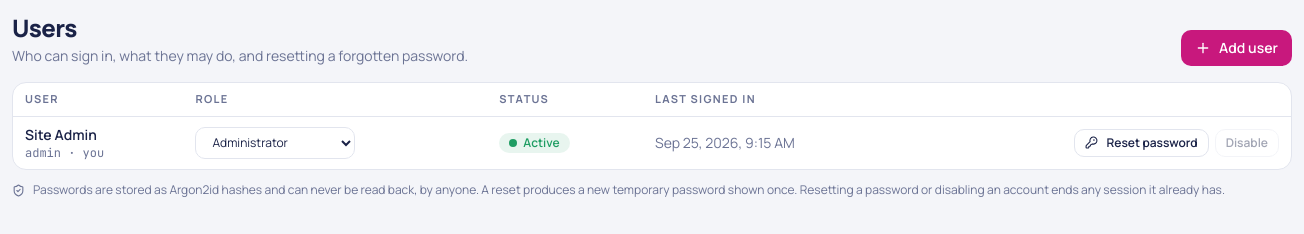
Test case: user management › surfaces the reason the API refused a change
Select "Auditor" in the dropdown named "Role for admin": (275, 142) [195, 126, 355, 158]
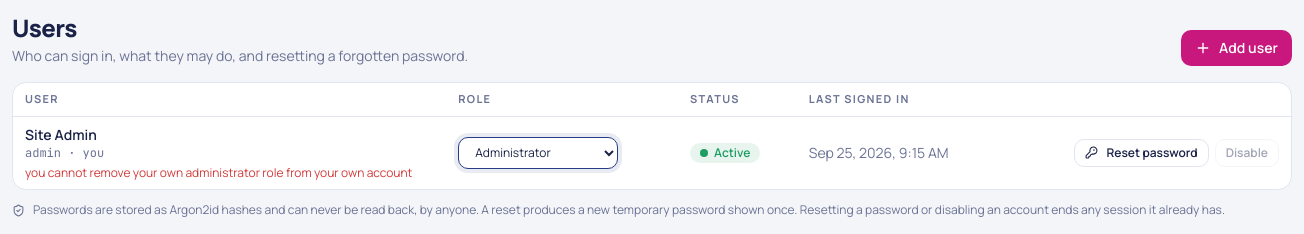
Now the message shows "cannot remove your own", box [25, 164, 412, 180]
